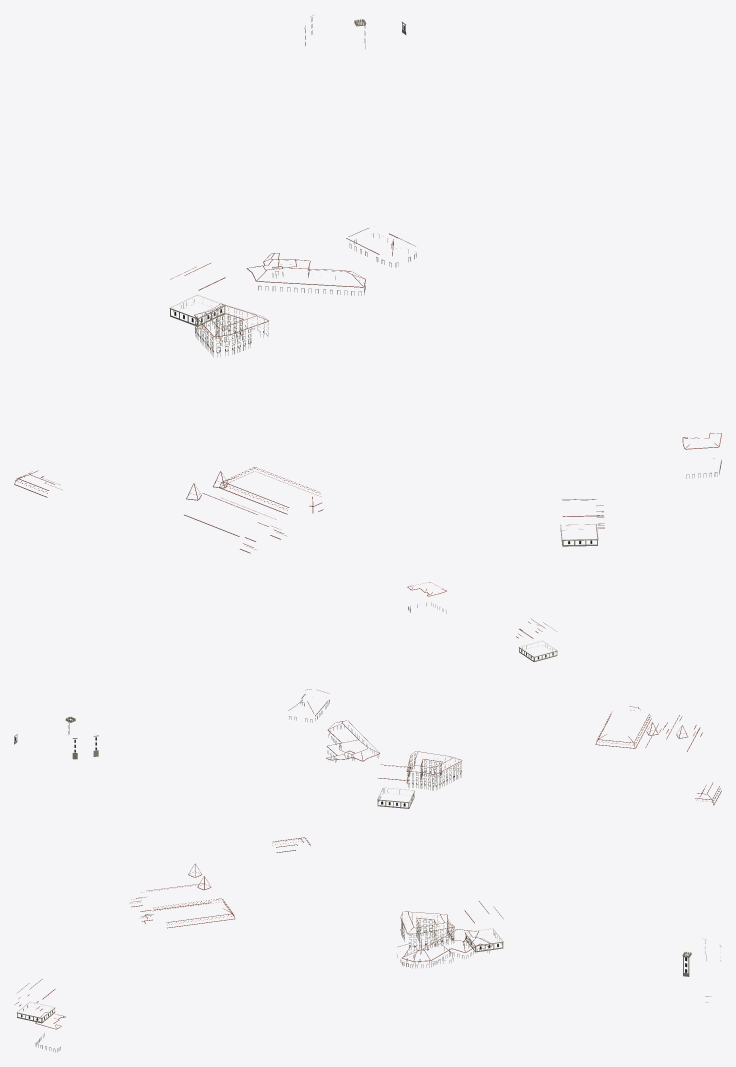
3 views of the same model, one above another, from view 1: azimuth 30°, elevation 25°; view 2: azimuth 150°, elevation 25°; view 3: azimuth 270°, elevation 25° (orthographic). The views are drawn at different scales.
Parts seen in each view (by area): view 1: detail; view 2: detail; view 3: detail.
Boxes of the visible parts, box(x1,y1,x2,y2) form: detail: box(14, 14, 721, 553); detail: box(14, 582, 721, 808); detail: box(15, 837, 721, 1052).
Bounding box in the file's own units: 395 × 99.96 × 473.
